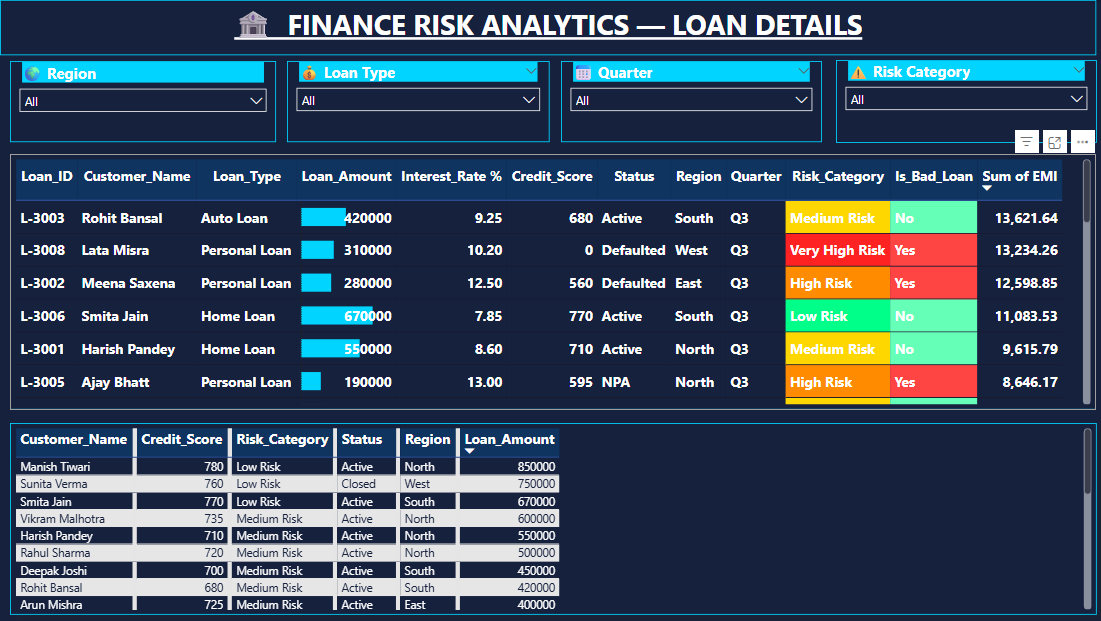

The dashboard page shown, as its layout file describes it:
{"tool":"powerbi","page":{"name":"Loan Details","canvas":[1280,720],"ordinal":2},"visuals":[{"type":"textbox","box":[0,0,1269.3,64.3],"z":0},{"type":"slicer","title":"🌍 Region","fields":{"Values":["Topic Append Queries + Multiple.Region"]},"box":[11.6,70.6,308.4,93.9],"z":0,"group":"g1"},{"type":"group","id":"g1","title":"Group 1","box":[11.6,68.9,1258.8,96.1],"z":1000},{"type":"slicer","fields":{"Values":["Topic Append Queries + Multiple.Quarter"]},"box":[649.2,70.6,301.9,93.9],"z":1000,"group":"g1"},{"type":"slicer","fields":{"Values":["Topic Append Queries + Multiple.Risk_Category"]},"box":[968.2,68.9,302.1,96.1],"z":2000,"group":"g1"},{"type":"tableEx","fields":{"Values":["Topic Append Queries + Multiple.Loan_ID","Topic Append Queries + Multiple.Customer_Name","Topic Append Queries + Multiple.Loan_Type","Topic Append Queries + Multiple.Loan_Amount","Topic Append Queries + Multiple.Interest_Rate %","Topic Append Queries + Multiple.Credit_Score","Topic Append Queries + Multiple.Status","Topic Append Queries + Multiple.Region","Topic Append Queries + Multiple.Quarter","Topic Append Queries + Multiple.Risk_Category","Topic Append Queries + Multiple.Is_Bad_Loan","Sum(Topic Append Queries + Multiple.EMI)"]},"box":[11.6,178.3,1257.1,296.3],"z":2000},{"type":"slicer","fields":{"Values":["Topic Append Queries + Multiple.Loan_Type"]},"box":[332.6,70.6,303.5,93.9],"z":3000,"group":"g1"},{"type":"tableEx","title":"🚨 Top 5 High Risk Customers","fields":{"Values":["Topic Append Queries + Multiple.Customer_Name","Topic Append Queries + Multiple.Credit_Score","Topic Append Queries + Multiple.Risk_Category","Topic Append Queries + Multiple.Status","Topic Append Queries + Multiple.Region","Topic Append Queries + Multiple.Loan_Amount"]},"box":[11.6,489.6,1258.3,222.3],"z":3000}]}

Visuals, with their boxes in screenshot pixels (x1, y1, x2, y2), scaled from the page's 1280x720 canvas onto the 1101x621 screenshot:
textbox: {"x1": 0, "y1": 0, "x2": 1092, "y2": 55}
"🌍 Region" slicer: {"x1": 10, "y1": 61, "x2": 275, "y2": 142}
"Group 1" group: {"x1": 10, "y1": 59, "x2": 1093, "y2": 142}
slicer - Topic Append Queries + Multiple.Quarter: {"x1": 558, "y1": 61, "x2": 818, "y2": 142}
slicer - Topic Append Queries + Multiple.Risk_Category: {"x1": 833, "y1": 59, "x2": 1093, "y2": 142}
tableEx - Topic Append Queries + Multiple.Loan_ID x Topic Append Queries + Multiple.Customer_Name: {"x1": 10, "y1": 154, "x2": 1091, "y2": 409}
slicer - Topic Append Queries + Multiple.Loan_Type: {"x1": 286, "y1": 61, "x2": 547, "y2": 142}
"🚨 Top 5 High Risk Customers" tableEx: {"x1": 10, "y1": 422, "x2": 1092, "y2": 614}
